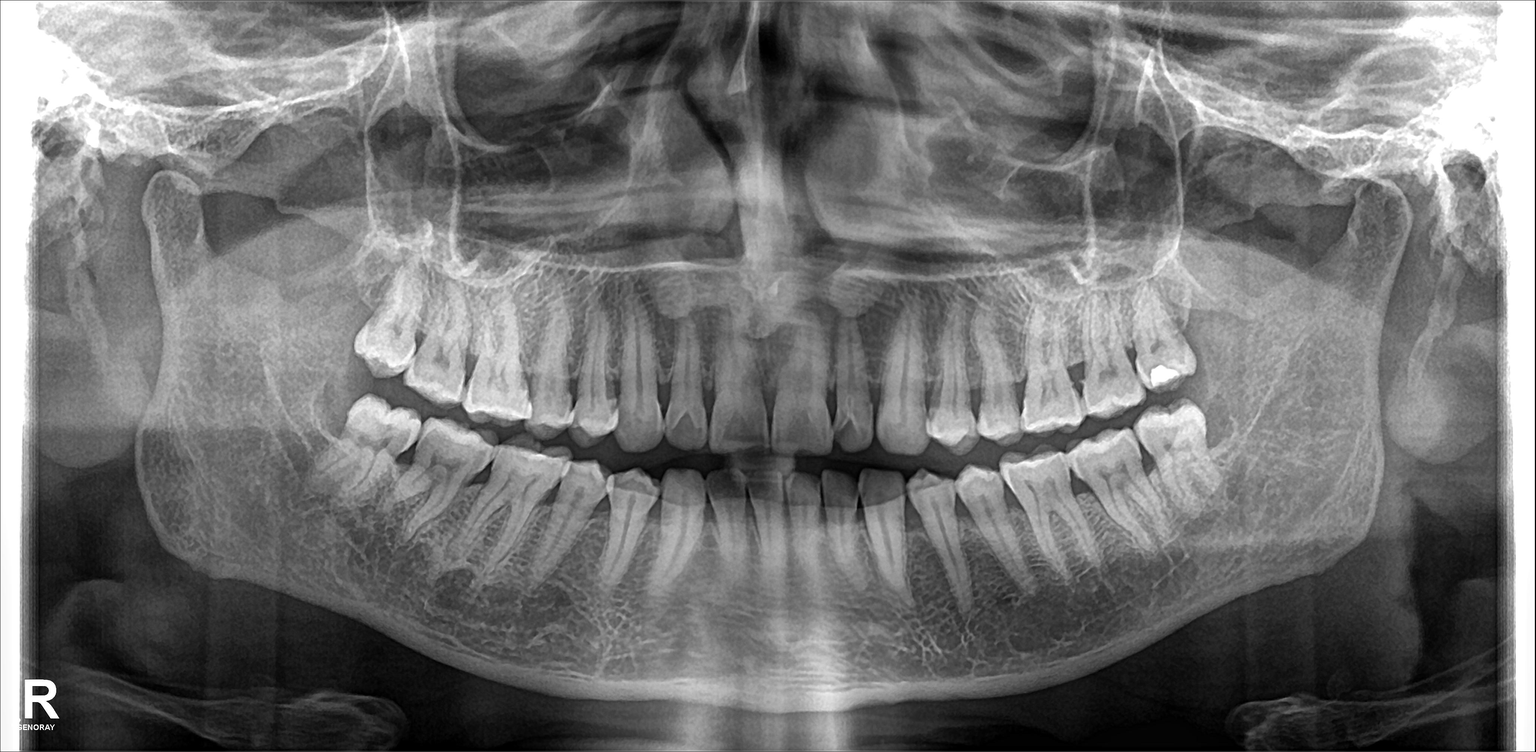Dental Caries: (670, 411, 703, 448)
